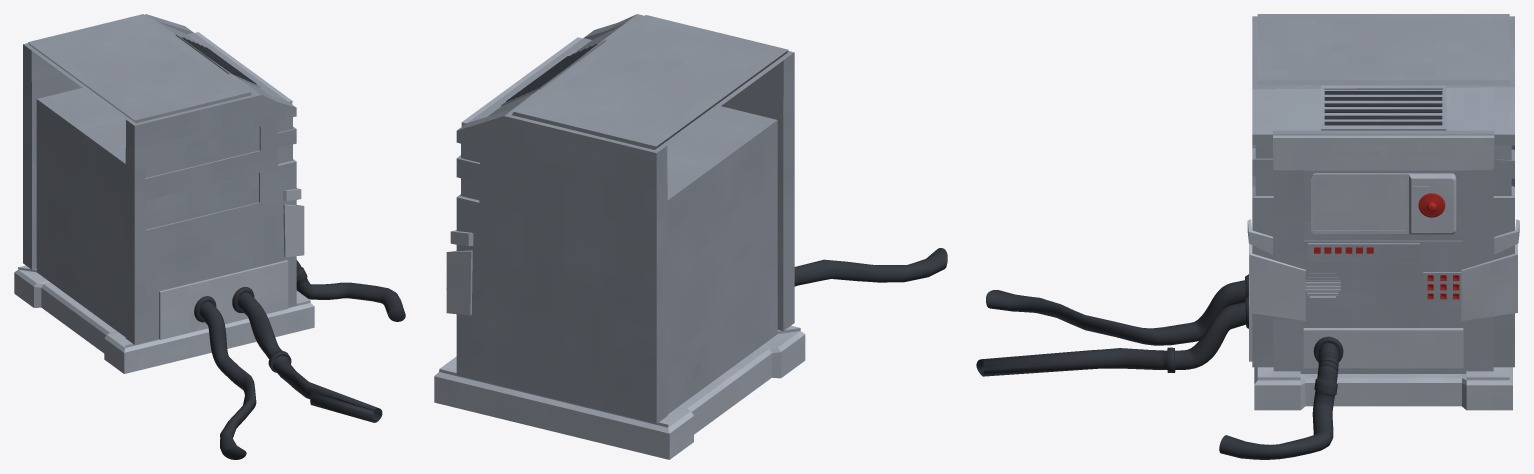
File: panel_control.glb
The picture shows the model from 3 angles, left to right: view 1: azimuth 30°, elevation 25°; view 2: azimuth 150°, elevation 25°; view 3: azimuth 270°, elevation 25°; orthographic projection. The views are drawn at different scales.
Visible parts, largest first — view 1: Cube.001; view 2: Cube.001; view 3: Cube.001.
Part boxes in pixels (x1,y1,x2,y2): Cube.001: [14, 14, 405, 459]; Cube.001: [434, 14, 947, 459]; Cube.001: [976, 14, 1519, 459].
Size of the model in its own units: 1148 by 976 by 1594.
5 materials, 5 textured.
